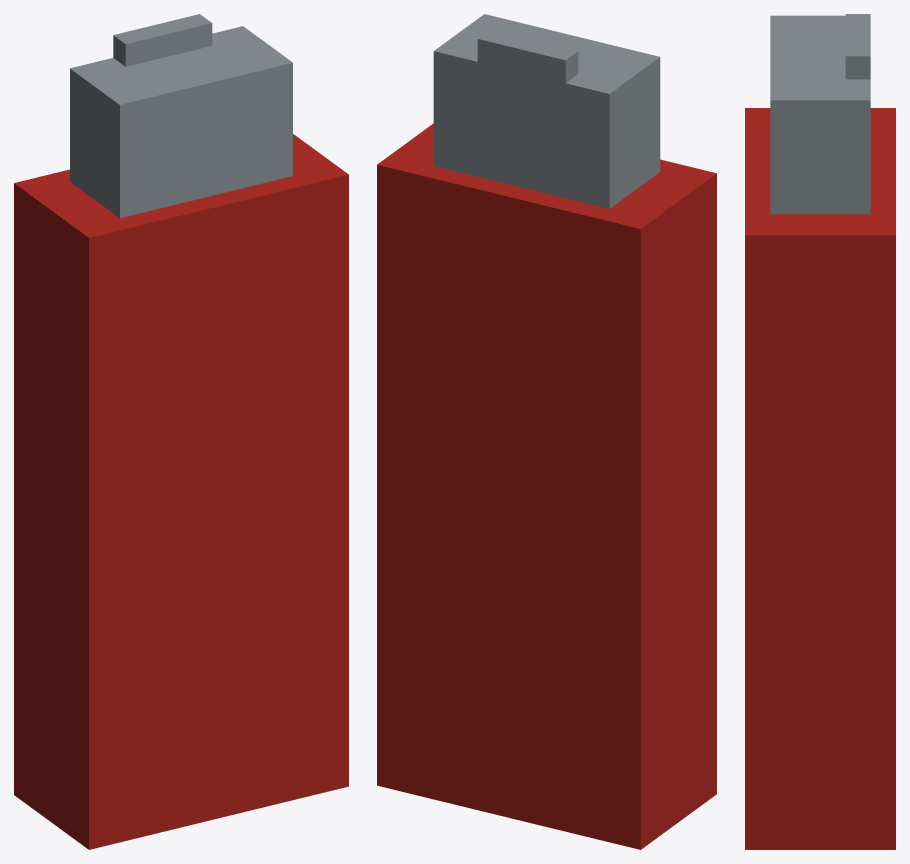
The model's file is lighter.glb.
3 renders of one model, left to right at view 1: azimuth 30°, elevation 25°; view 2: azimuth 150°, elevation 25°; view 3: azimuth 270°, elevation 25°, orthographic.
Visible parts, largest first — view 1: lighter:lighter; view 2: lighter:lighter; view 3: lighter:lighter.
Boxes of the visible parts, <box> form: lighter:lighter: <box>14,14,348,849</box>; lighter:lighter: <box>377,14,716,849</box>; lighter:lighter: <box>745,14,895,849</box>.
Size of the model in its own units: 0.024 by 0.066 by 0.012.
